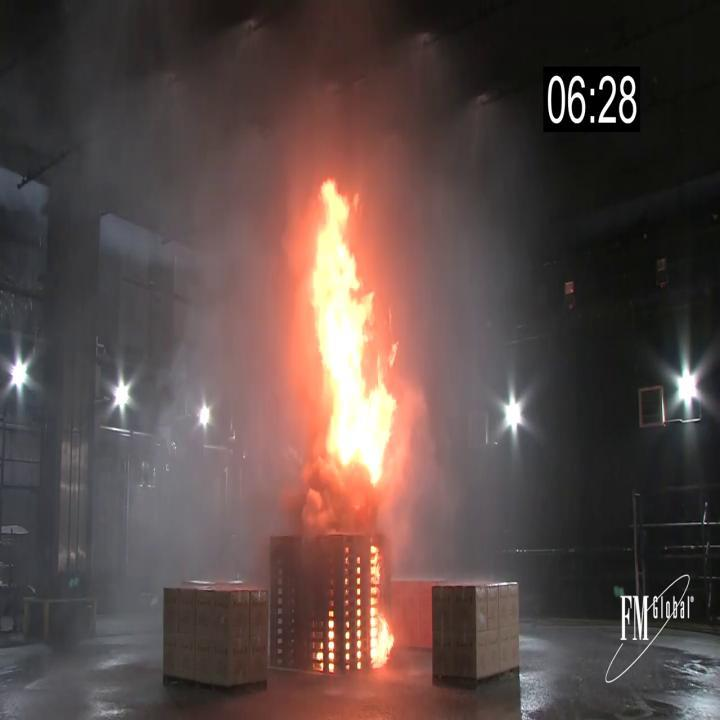fire: (303, 169, 403, 514), (370, 542, 397, 674)
